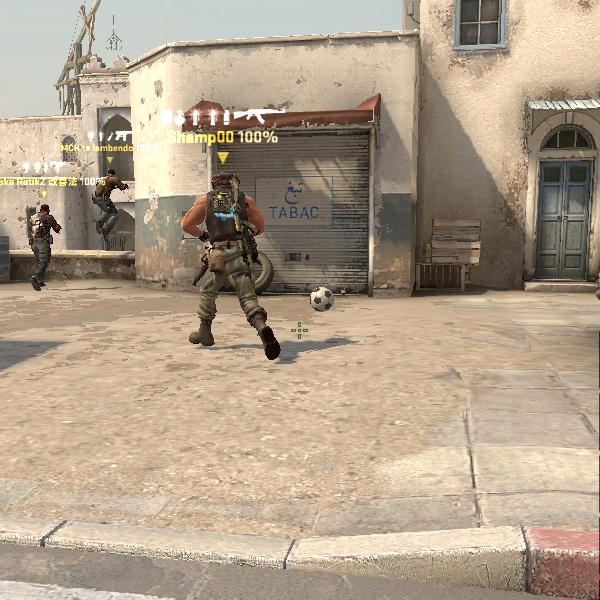t_body: (170, 165, 281, 358), (17, 198, 67, 292), (88, 165, 136, 251)
t_head: (199, 165, 246, 211)
